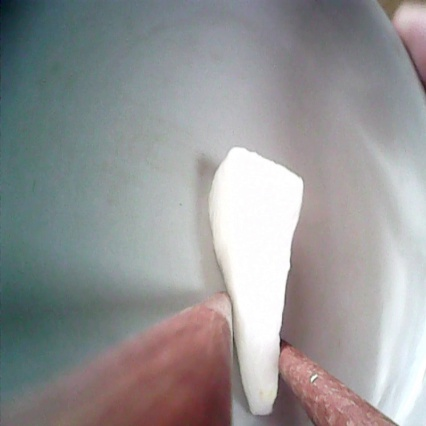white_chinese-yam: (206, 141, 310, 425)
